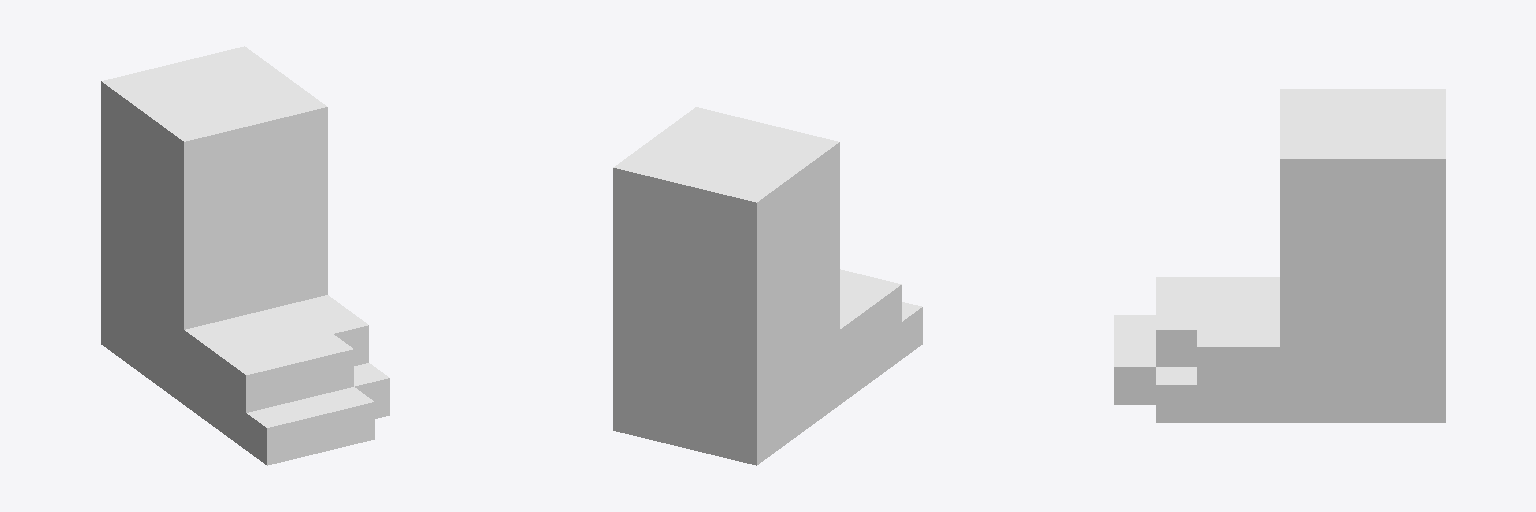
Rendered from vrach-0-3.obj.
3 renders of one model, left to right at view 1: azimuth 30°, elevation 25°; view 2: azimuth 150°, elevation 25°; view 3: azimuth 270°, elevation 25°, orthographic.
Parts seen in each view (by area): view 1: object 1; view 2: object 1; view 3: object 1.
Boxes of the visible parts, <box> form: object 1: <box>101,46,389,465</box>; object 1: <box>613,107,922,465</box>; object 1: <box>1114,89,1445,422</box>.
Size of the model in its own units: 0.4 by 0.7 by 0.8.